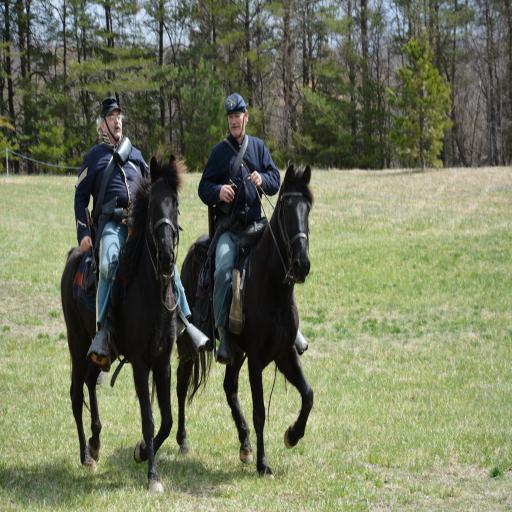horse: (58, 142, 188, 494), (174, 164, 314, 482)
